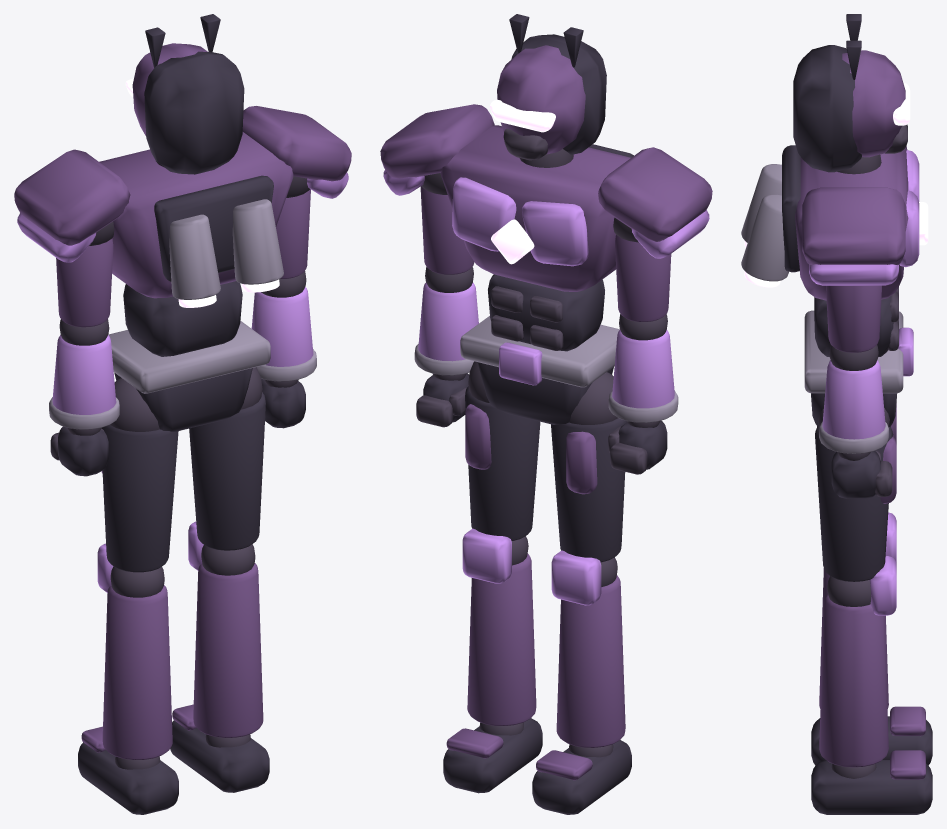
File: shade.glb
3 renders of one model, left to right at view 1: azimuth 30°, elevation 25°; view 2: azimuth 150°, elevation 25°; view 3: azimuth 270°, elevation 25°, orthographic.
Visible parts, largest first — view 1: chest, head, upper_arm_l, shin_l, shin_r, thigh_l, hips, thigh_r, upper_arm_r, lower_arm_l, abdomen, lower_arm_r (+4 smaller); view 2: chest, shin_l, shin_r, upper_arm_l, head, thigh_l, hips, thigh_r, upper_arm_r, abdomen, lower_arm_l, lower_arm_r (+4 smaller); view 3: upper_arm_r, head, shin_r, chest, thigh_r, foot_r, lower_arm_r, hips, hand_r, foot_l, abdomen, shin_l.
Boxes of the visible parts, x1,y1,x2,y2 form: chest: (99, 132, 293, 307); head: (125, 14, 244, 174); upper_arm_l: (14, 149, 130, 327); shin_l: (97, 543, 172, 759); shin_r: (188, 521, 263, 737); thigh_l: (101, 378, 178, 572); hips: (108, 321, 270, 431); thigh_r: (189, 367, 265, 550); upper_arm_r: (242, 106, 351, 278); lower_arm_l: (49, 319, 119, 429); abdomen: (123, 281, 242, 356); lower_arm_r: (251, 271, 316, 381); chest: (440, 125, 633, 291); shin_l: (551, 550, 625, 747); shin_r: (462, 528, 536, 725); upper_arm_l: (598, 147, 712, 321); head: (490, 14, 606, 160); thigh_l: (551, 372, 626, 562); hips: (460, 316, 619, 424); thigh_r: (465, 361, 540, 540); upper_arm_r: (380, 104, 494, 274); abdomen: (488, 274, 604, 351); lower_arm_l: (608, 314, 678, 422); lower_arm_r: (414, 267, 478, 375); upper_arm_r: (802, 187, 905, 352); head: (793, 14, 910, 172); shin_r: (819, 556, 896, 767); chest: (741, 145, 928, 300); thigh_r: (815, 407, 896, 581); foot_r: (811, 750, 932, 814); lower_arm_r: (819, 345, 888, 453); hips: (804, 310, 913, 426); hand_r: (831, 450, 892, 498); foot_l: (811, 706, 932, 765); abdomen: (814, 287, 898, 357); shin_l: (819, 512, 896, 709).
Size of the model in its own units: 0.758 by 1.85 by 0.4258.
